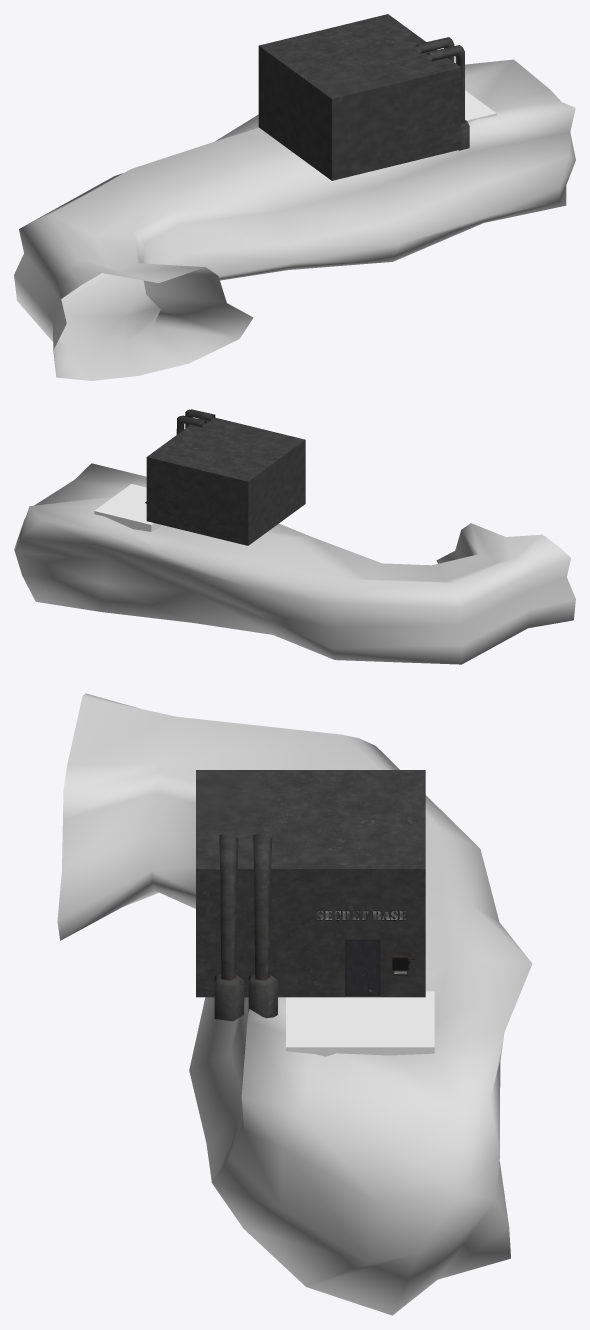
The model's file is base_and_monitor.gltf.
The picture shows the model from 3 angles, top to bottom: view 1: azimuth 30°, elevation 25°; view 2: azimuth 150°, elevation 25°; view 3: azimuth 270°, elevation 25°; orthographic projection. The views are drawn at different scales.
Parts seen in each view (by area): view 1: Cave, Base_col, BreakingGround; view 2: Cave, Base_col, BreakingGround; view 3: Cave, Base_col, BreakingGround, Door_col.
Part boxes in pixels (x1=…): Cave: x1=14, y1=59, x2=575, y2=380; Base_col: x1=258, y1=14, x2=469, y2=180; BreakingGround: x1=465, y1=90, x2=496, y2=122; Cave: x1=14, y1=463, x2=575, y2=664; Base_col: x1=146, y1=409, x2=305, y2=545; BreakingGround: x1=94, y1=484, x2=161, y2=531; Cave: x1=57, y1=693, x2=532, y2=1315; Base_col: x1=196, y1=770, x2=425, y2=1021; BreakingGround: x1=286, y1=991, x2=434, y2=1056; Door_col: x1=345, y1=939, x2=380, y2=996.
Size of the model in its own units: 43.74 by 15.46 by 18.73.
Materials: 6 (3 with a texture image).
